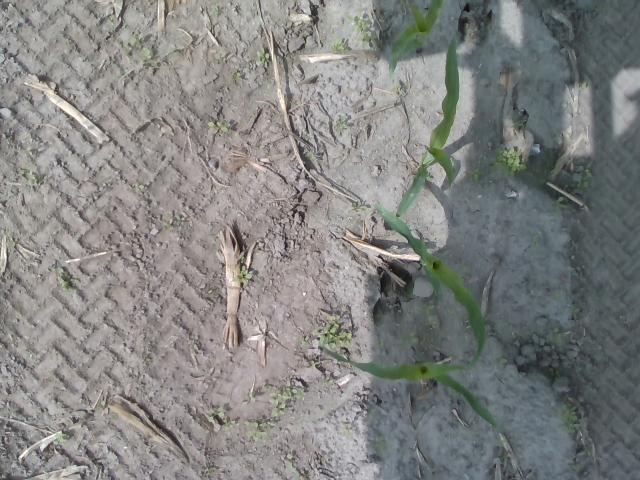Maize: (369, 201, 488, 366), (314, 341, 496, 427), (392, 32, 462, 216), (384, 0, 446, 68)
Weeds: (552, 400, 592, 474), (493, 146, 551, 186), (261, 382, 305, 419), (344, 9, 382, 47), (315, 314, 351, 350), (120, 36, 154, 63), (242, 418, 278, 442), (46, 265, 76, 292), (416, 298, 442, 329), (205, 406, 238, 429), (575, 162, 593, 194), (372, 432, 392, 458), (206, 118, 232, 136), (396, 328, 422, 345), (286, 453, 302, 480), (161, 214, 185, 230), (235, 264, 252, 286), (548, 326, 566, 346), (16, 170, 38, 185), (550, 196, 568, 214), (466, 166, 484, 184), (328, 36, 347, 52), (511, 110, 526, 128), (256, 46, 270, 64), (458, 259, 472, 276), (350, 200, 368, 213), (468, 346, 481, 364), (546, 366, 562, 380), (493, 352, 507, 366), (334, 118, 348, 132), (576, 80, 591, 92), (298, 334, 310, 348), (56, 434, 68, 446), (571, 306, 581, 320), (322, 376, 336, 386), (205, 462, 218, 472), (366, 407, 376, 419), (391, 84, 403, 94), (231, 72, 242, 82), (133, 182, 144, 192), (343, 424, 353, 434), (550, 290, 560, 300), (304, 152, 314, 162), (110, 414, 120, 422)
